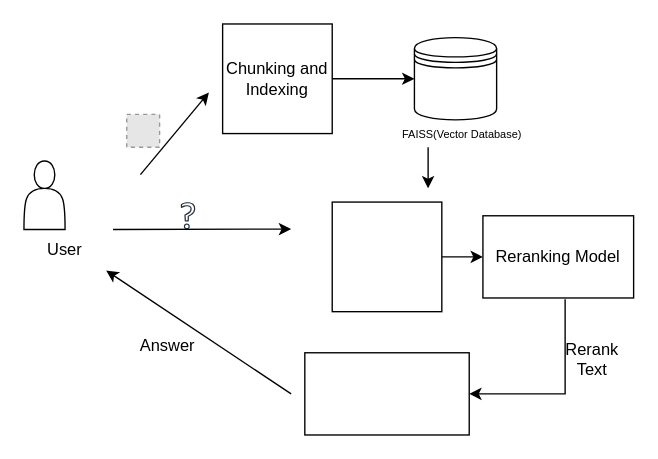
This 658x459 diagram has some shape labels left out. Grey dashed boxes stand in for pictures. The shapes that lost their labels are listed below. From the top down, each one's centre as x and y in pixels, then its label:
At point (386, 256): "Retrieve with Embedding model".
At point (386, 393): "LLM Model".
